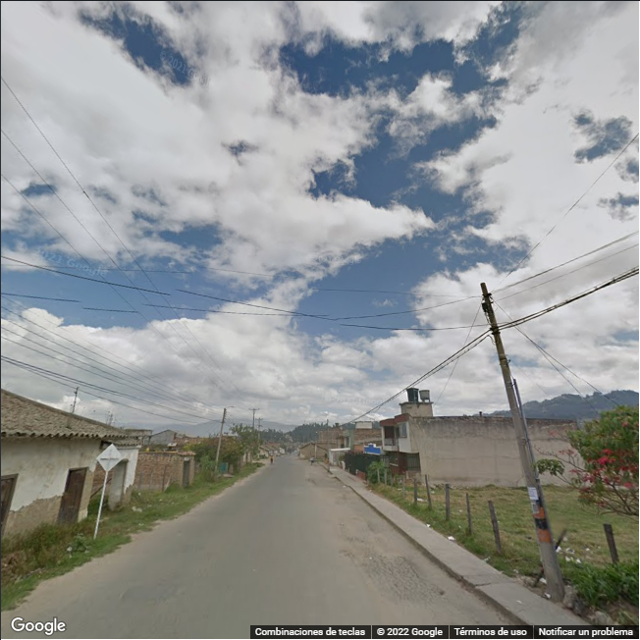D20: (349, 549, 439, 603)
